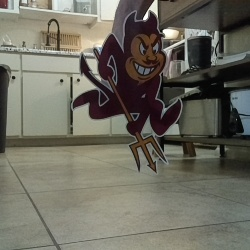sparky: (70, 9, 184, 176)
